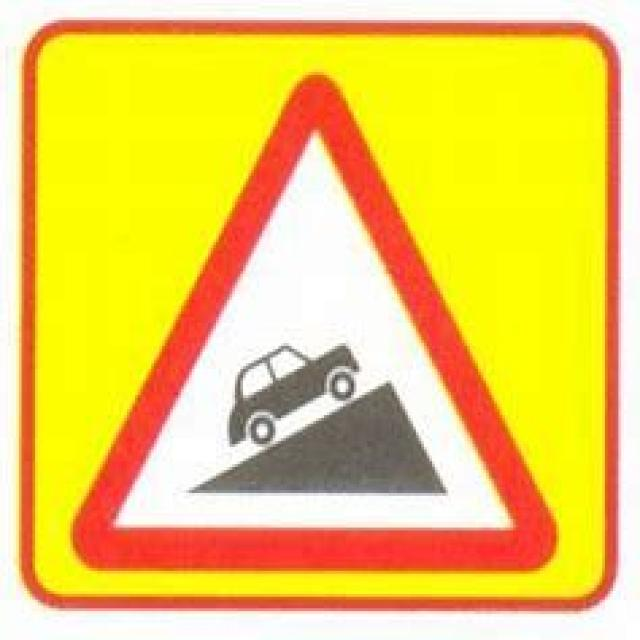speed_limit_70: (70, 66, 556, 571)
